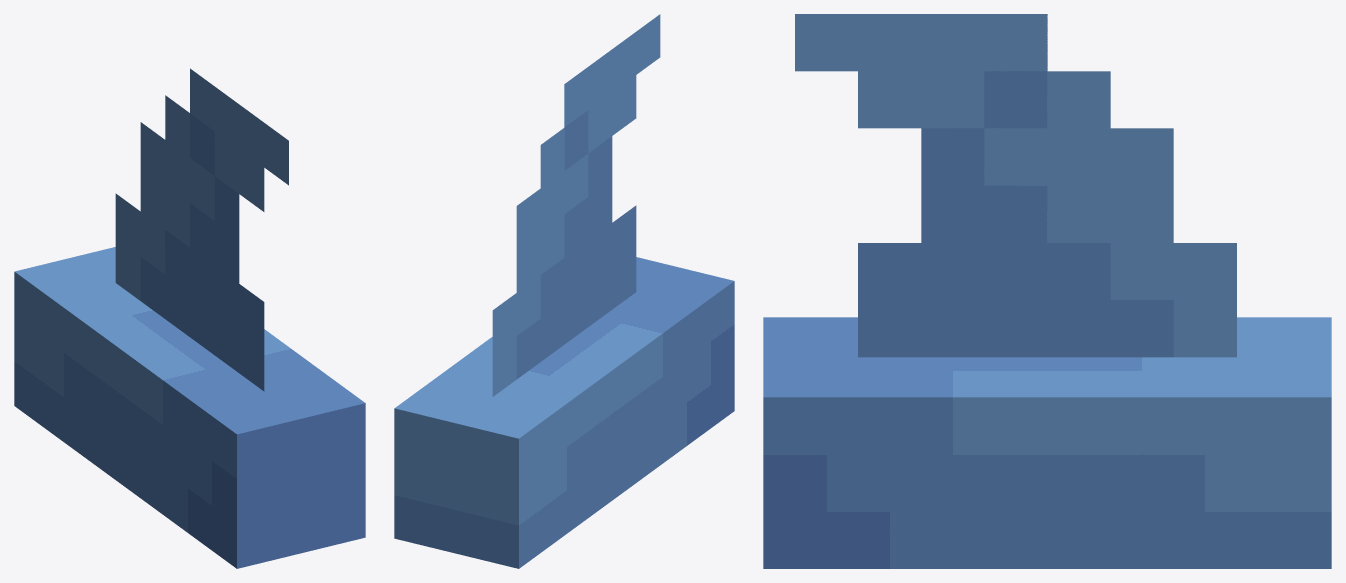
Rendered from SharkFin.fbx.
The picture shows the model from 3 angles, left to right: view 1: azimuth 30°, elevation 25°; view 2: azimuth 150°, elevation 25°; view 3: azimuth 270°, elevation 25°; orthographic projection. The views are drawn at different scales.
Visible parts, largest first — view 1: fin, fin_1; view 2: fin, fin_1; view 3: fin, fin_1.
Boxes of the visible parts, x1,y1,x2,y2 form: fin: (14, 247, 365, 568); fin_1: (115, 68, 288, 391); fin: (394, 257, 734, 568); fin_1: (492, 14, 660, 396); fin: (763, 317, 1331, 568); fin_1: (795, 14, 1236, 357).
Size of the model in its own units: 9.38 by 28.12 by 28.12.
1 material, 1 textured.
